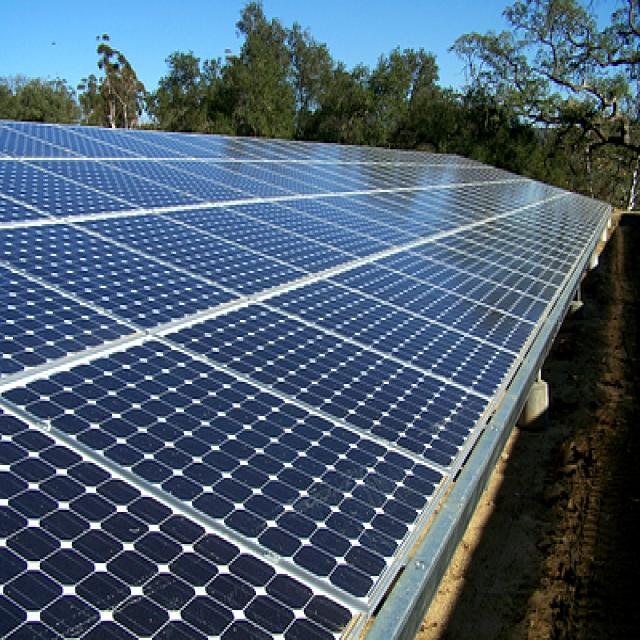crack: (301, 352, 396, 412), (158, 535, 235, 604), (130, 560, 210, 620), (268, 332, 346, 389), (184, 469, 242, 542), (216, 540, 290, 596), (198, 562, 266, 621), (6, 285, 64, 353), (363, 382, 440, 432), (32, 500, 106, 552), (2, 560, 66, 618), (190, 518, 248, 581), (284, 531, 346, 589), (202, 320, 286, 362), (321, 550, 381, 608), (251, 511, 308, 572), (278, 478, 342, 532), (74, 235, 126, 301), (18, 235, 97, 278), (2, 472, 60, 530), (244, 312, 304, 368), (8, 511, 58, 576), (104, 544, 162, 600), (132, 518, 186, 578), (36, 460, 88, 520), (152, 461, 210, 514), (119, 486, 182, 534), (241, 586, 296, 640), (303, 585, 356, 640), (225, 460, 288, 506), (74, 564, 130, 612), (66, 482, 122, 530), (394, 318, 452, 364), (97, 466, 148, 518), (336, 536, 396, 580), (125, 446, 179, 494), (310, 502, 370, 544), (431, 336, 488, 380), (154, 508, 215, 549), (72, 416, 126, 462), (322, 290, 387, 328), (266, 570, 322, 614), (356, 296, 412, 340), (222, 502, 275, 548), (248, 469, 304, 512), (258, 432, 304, 476), (188, 441, 244, 477), (144, 226, 202, 260), (216, 426, 262, 466), (108, 372, 154, 412), (101, 432, 142, 476), (143, 411, 186, 452), (316, 461, 360, 501), (74, 372, 118, 412), (240, 416, 278, 462), (68, 456, 110, 496), (44, 407, 94, 439), (160, 406, 204, 440), (287, 450, 335, 480), (41, 386, 92, 414), (127, 402, 160, 438)
